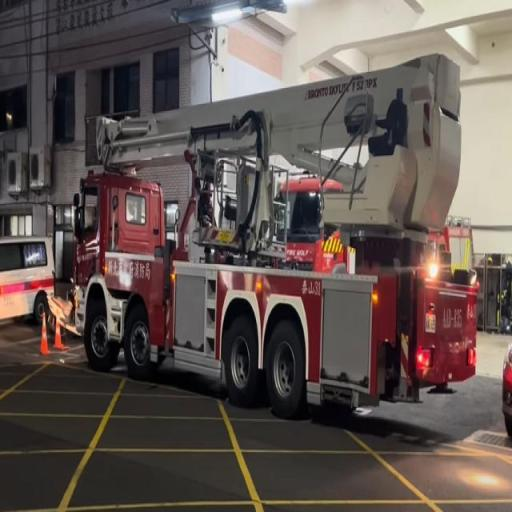fire truck: (74, 34, 485, 424)
